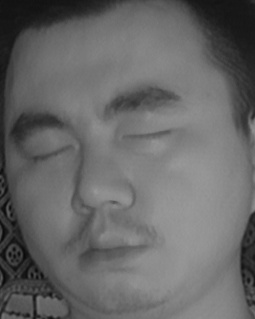blink: (120, 118, 170, 154), (28, 136, 77, 171)
mouth: (68, 218, 157, 275)
